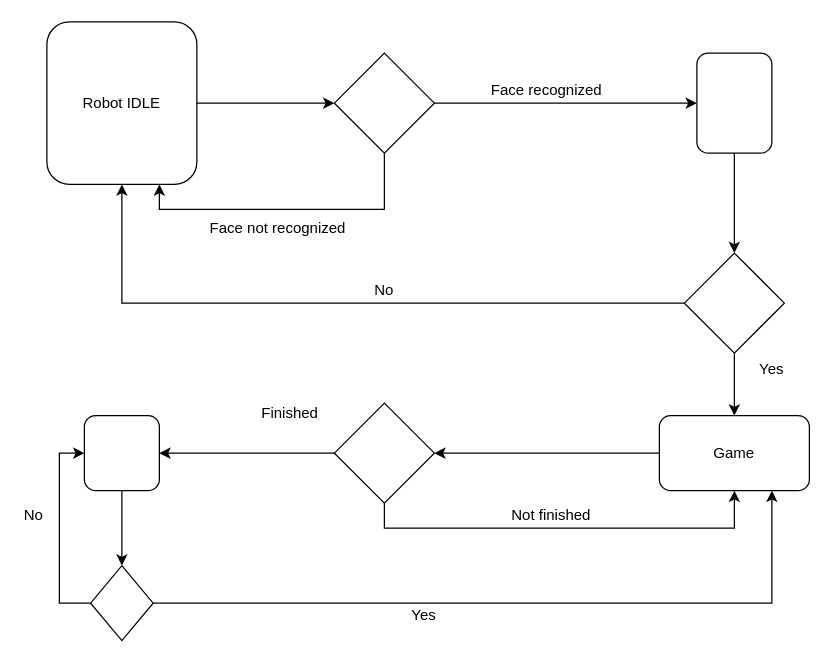
Some shapes in this 831 by 663 pixel diagram are drawn without their labels. The centre of each missing label's shape, as x and y in pixels:
Ask: (x=734, y=102)
Ask replay: (x=121, y=452)
